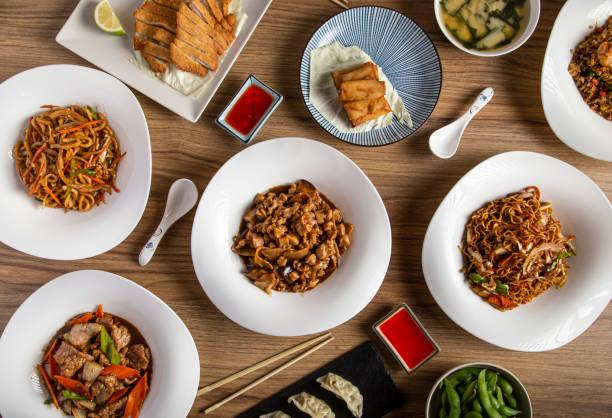Braised Crucian Carp: (191, 136, 389, 335), (420, 151, 610, 351), (2, 61, 154, 260), (0, 269, 199, 418), (299, 5, 441, 147), (103, 0, 250, 95)
